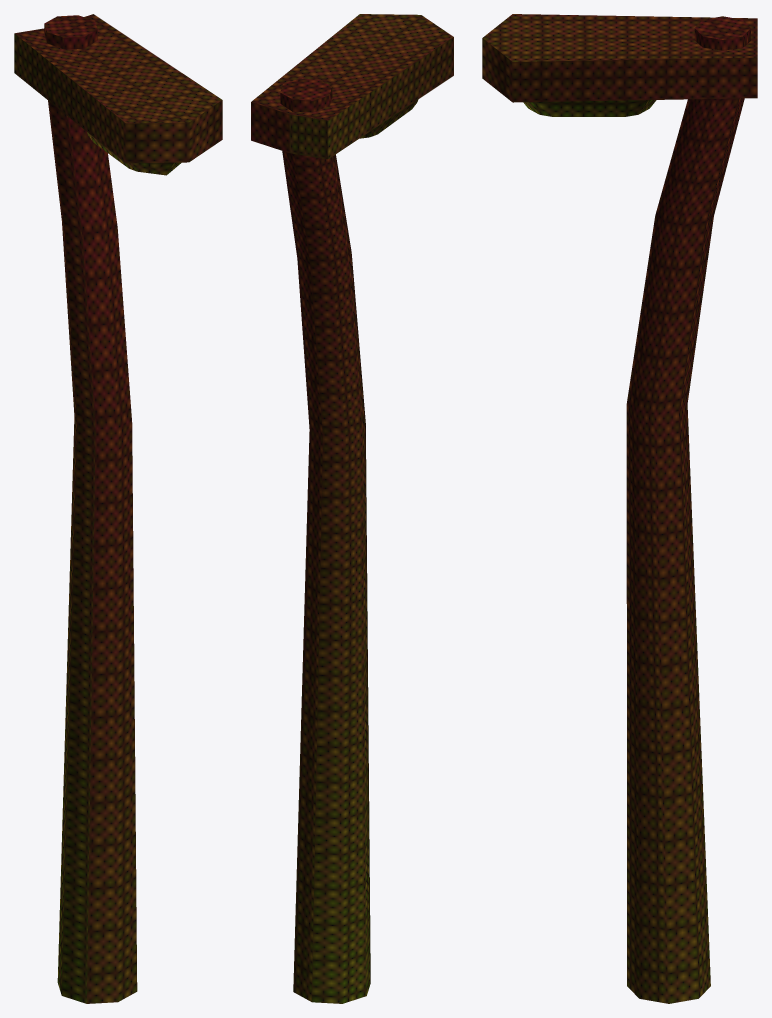
Rendered from Prop_Farola2 (1).fbx.
3 views of the same model, side by side, from view 1: azimuth 30°, elevation 25°; view 2: azimuth 150°, elevation 25°; view 3: azimuth 270°, elevation 25° (orthographic). The views are drawn at different scales.
Parts seen in each view (by area): view 1: Farola1; view 2: Farola1; view 3: Farola1.
Boxes of the visible parts, x1,y1,x2,y2 form: Farola1: (14, 14, 222, 1003); Farola1: (251, 14, 453, 1003); Farola1: (482, 14, 757, 1003).
Bounding box in the file's own units: 0.434 × 4.05 × 1.05.
Materials: 1 (1 with a texture image).
